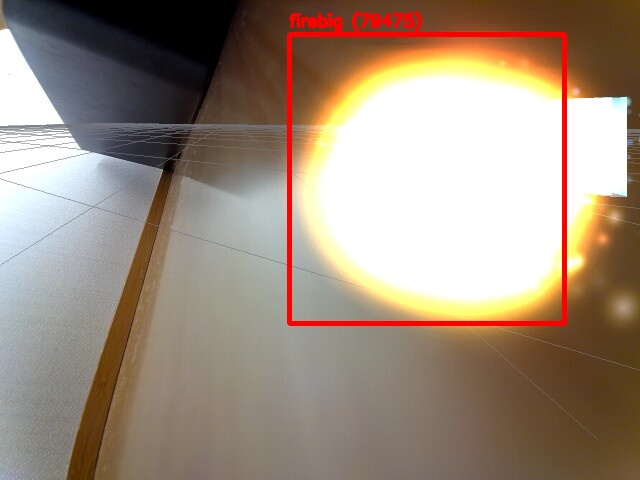firebig: (289, 34, 564, 323)
